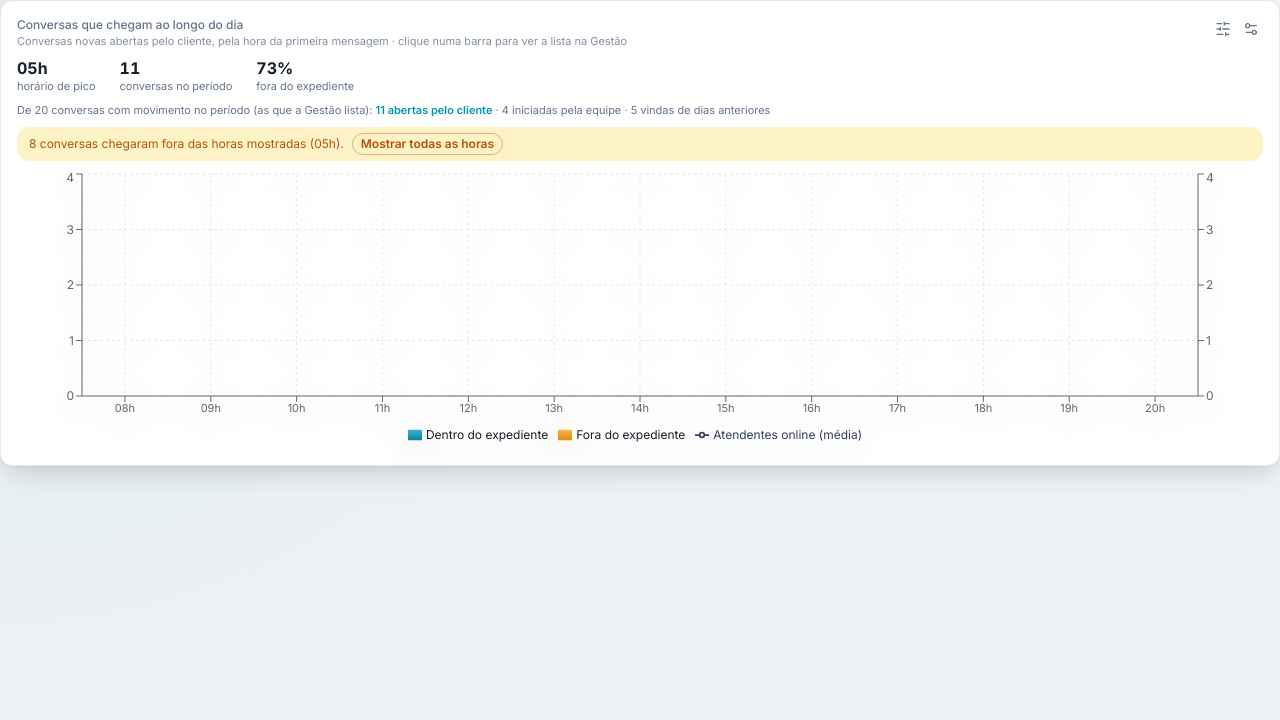
Test: Dashboard › Conversas que chegam ao longo do dia › avisa das conversas nas horas escondidas e mostra todas as horas
expect the text "8 conversas chegaram fora das horas mostradas (05h)." is shown: met, box x1=29 y1=136 x2=344 y2=152
Click the button "Mostrar todas as horas" at (427, 144), box x1=352 y1=132 x2=503 y2=154
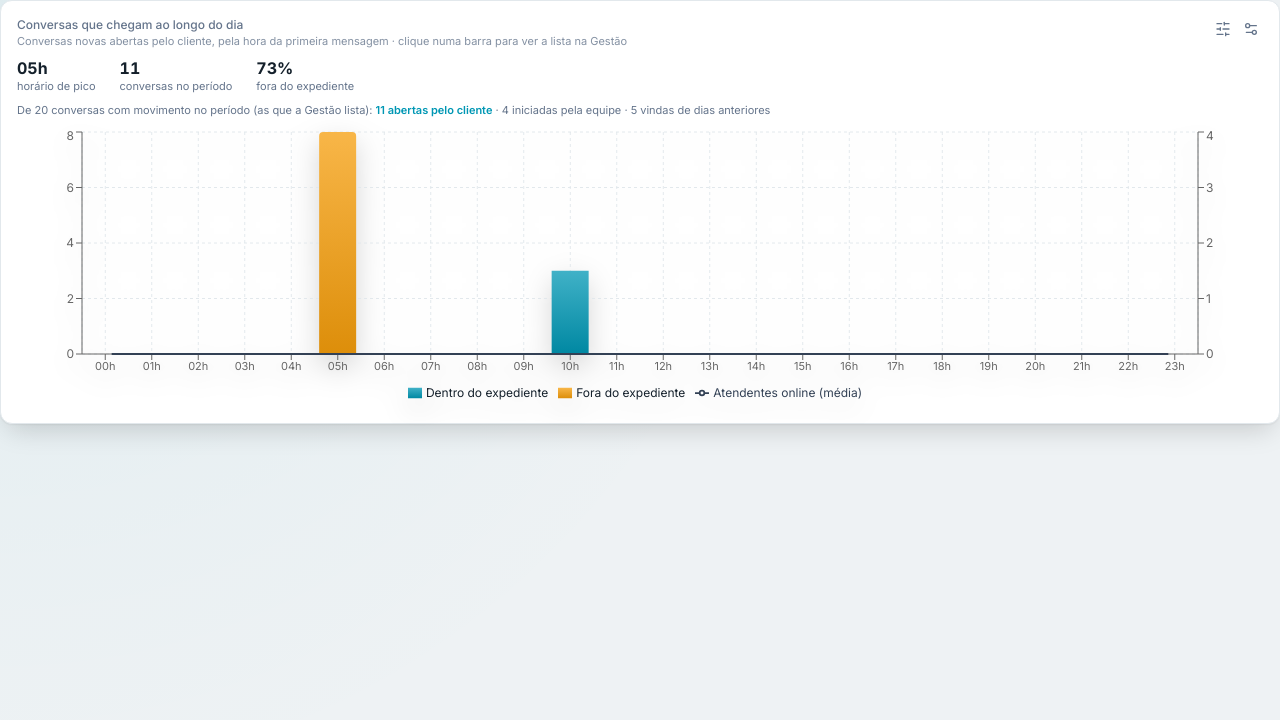
expect the text "fora das horas mostradas" is gone: met
